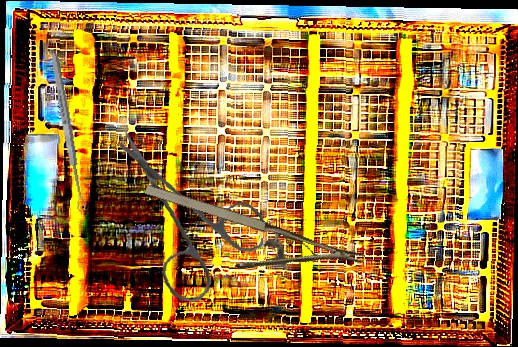Iris Scissors: (102, 131, 274, 309)
Needle Holder: (131, 177, 366, 308)
Surgical Spoon: (49, 53, 87, 212)
